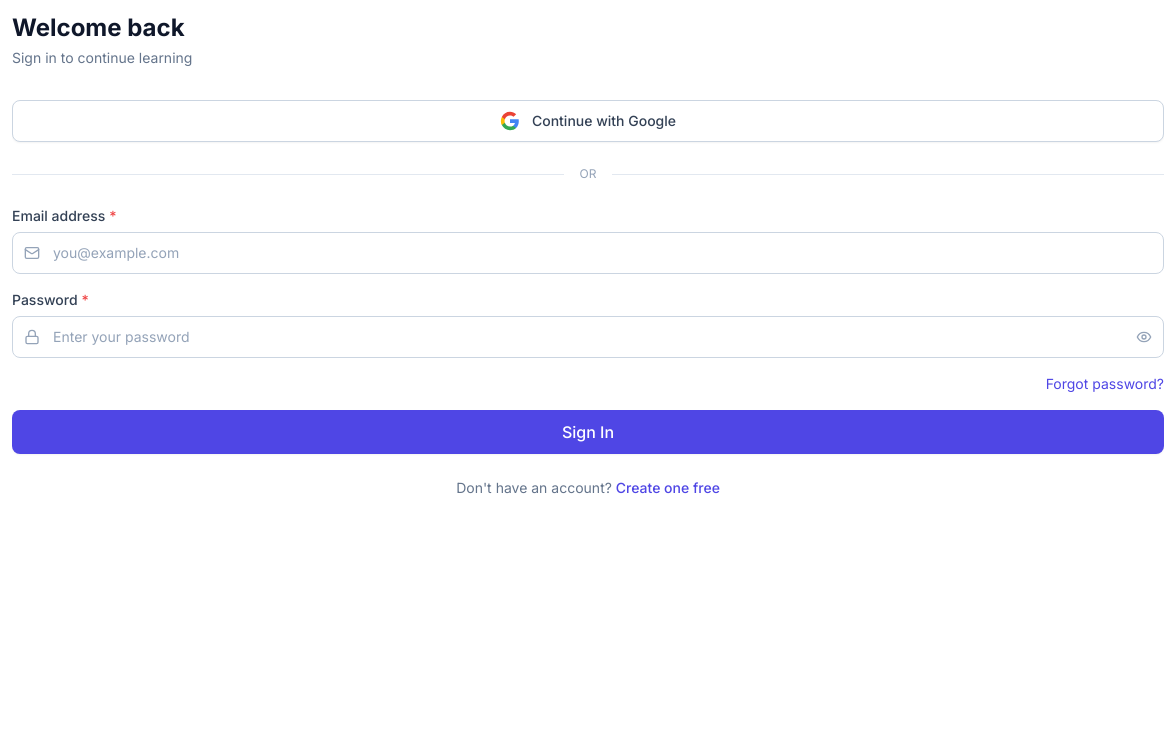
it: LoginPage › shows validation error for invalid email
Type "not-an-email" into the field with placeholder "you@example.com" at (588, 253), box [12, 232, 1164, 274]
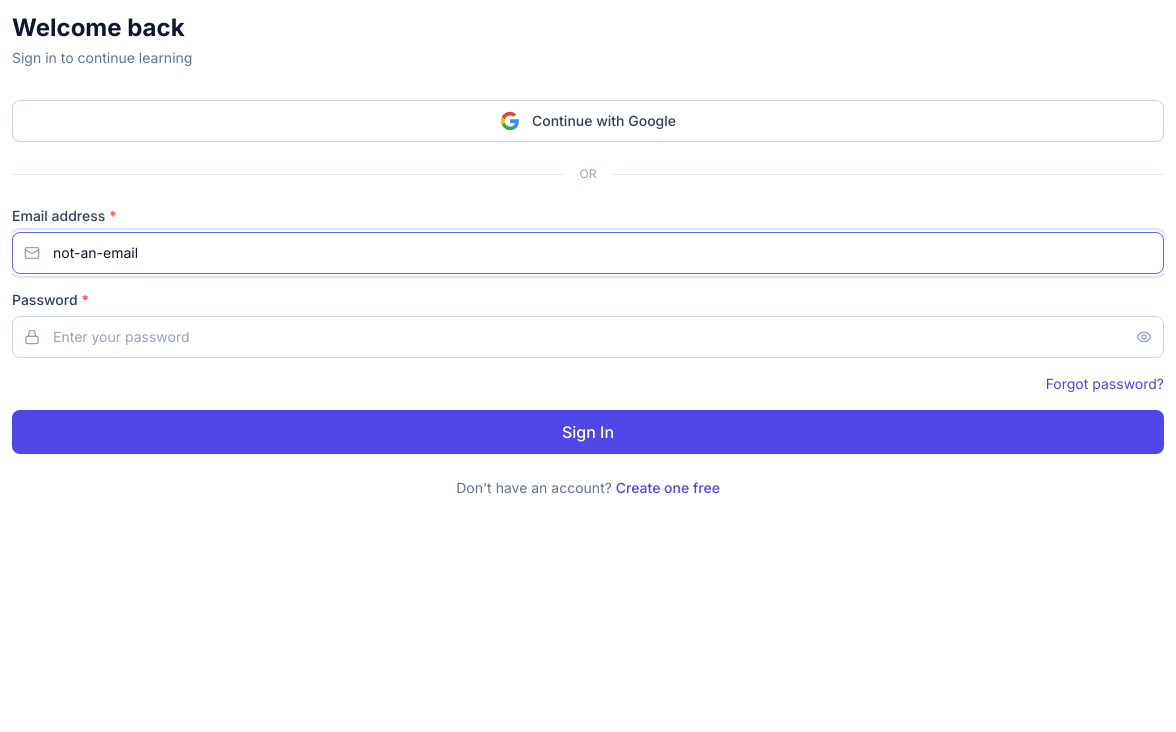
Submit the form, box [12, 206, 1164, 454]
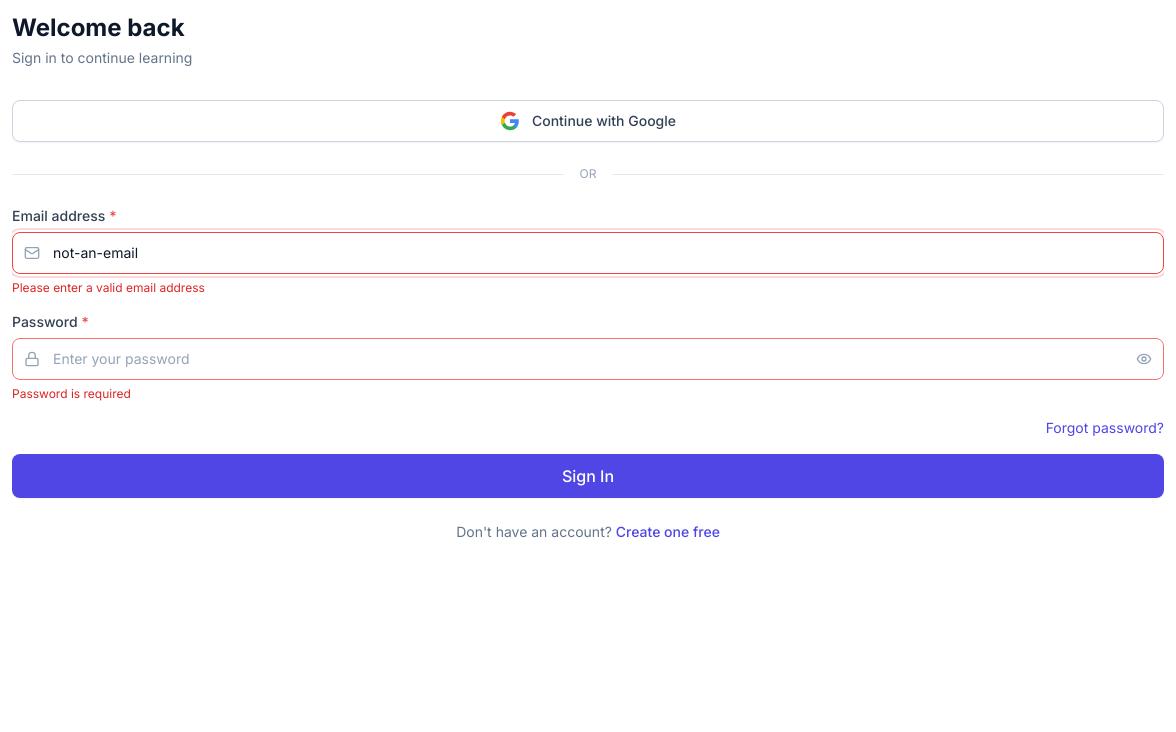
Check: the text "Please enter a valid email address" is shown, box [12, 280, 205, 295]
